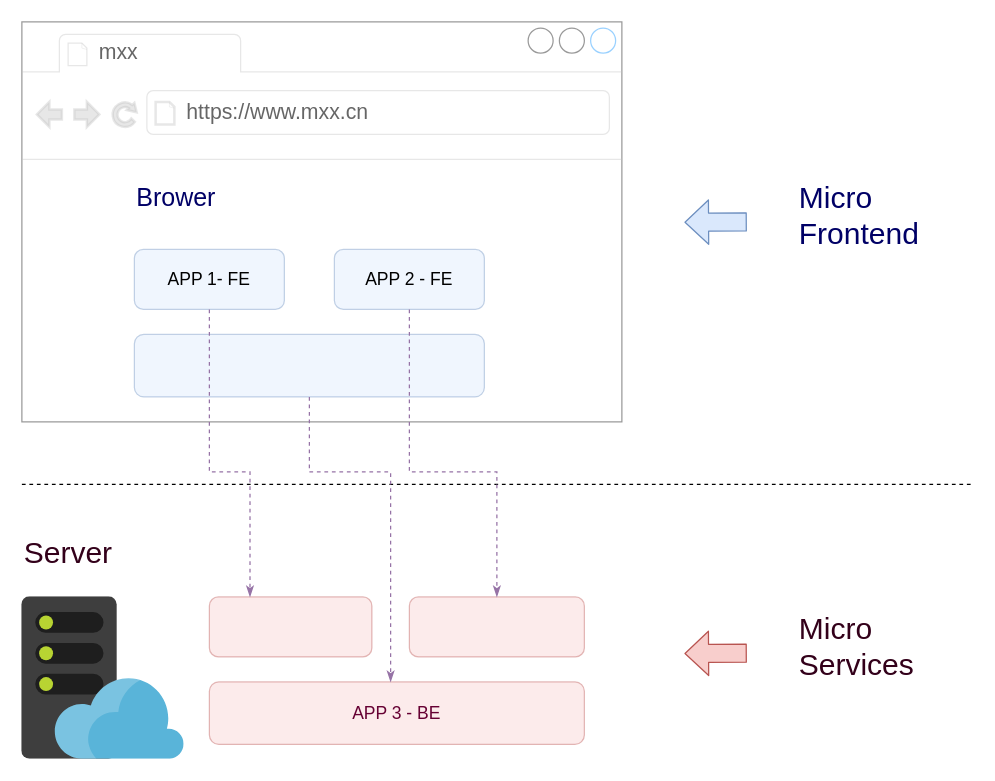
This 995x781 diagram has some shape labels left out. Here are the shapes that lost their labels. From the top down, the box of each, then its label:
(133, 333, 484, 397): APP 3 - FE
(208, 596, 372, 657): APP 1 - BE
(408, 596, 584, 657): APP 2 - BE
